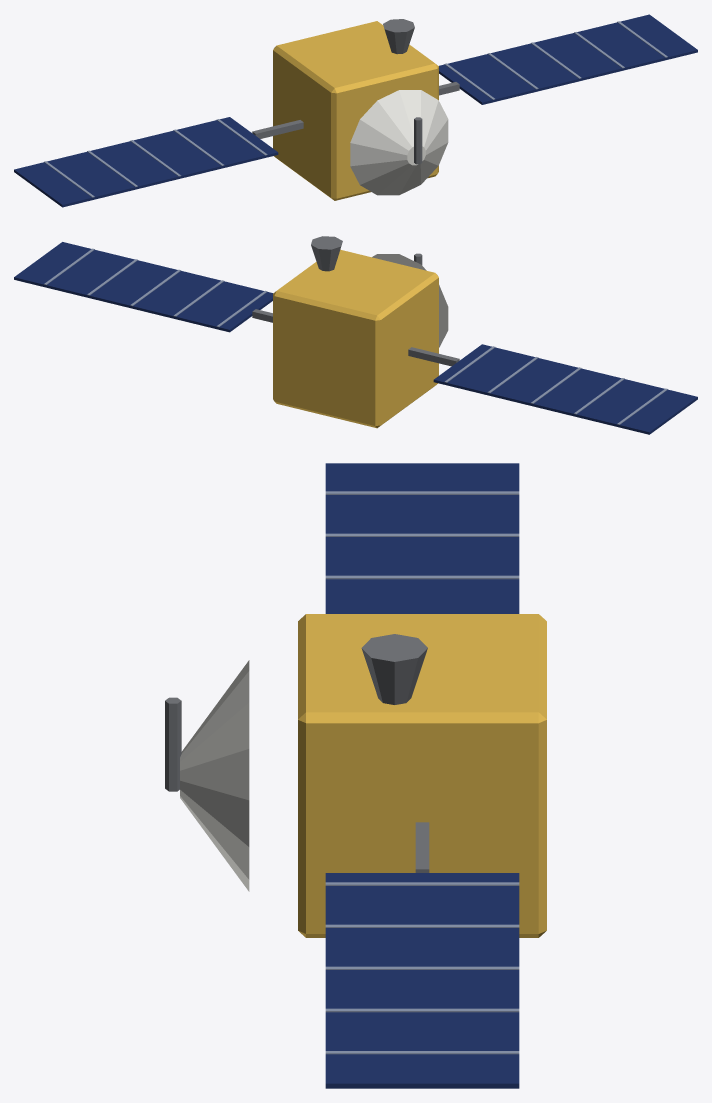
The model's file is space.satellite.glb.
The picture shows the model from 3 angles, top to bottom: view 1: azimuth 30°, elevation 25°; view 2: azimuth 150°, elevation 25°; view 3: azimuth 270°, elevation 25°; orthographic projection. The views are drawn at different scales.
Parts seen in each view (by area): view 1: body, wing-1, wing1, dish, horn, boom-1, feed; view 2: body, wing-1, wing1, horn, dish, boom-1; view 3: body, wing1, wing-1, dish, horn, feed, wing-line-12, wing-line13.
Boxes of the visible parts, bbox=[...] form: body: bbox=[273, 21, 438, 200]; wing-1: bbox=[14, 117, 278, 207]; wing1: bbox=[439, 14, 697, 104]; dish: bbox=[350, 90, 448, 195]; horn: bbox=[383, 19, 414, 54]; boom-1: bbox=[252, 120, 303, 138]; feed: bbox=[414, 117, 422, 164]; body: bbox=[273, 249, 438, 428]; wing-1: bbox=[433, 344, 697, 434]; wing1: bbox=[14, 242, 272, 332]; horn: bbox=[311, 236, 342, 271]; dish: bbox=[372, 254, 448, 347]; boom-1: bbox=[408, 347, 459, 366]; body: bbox=[298, 614, 546, 937]; wing1: bbox=[325, 873, 519, 1088]; wing-1: bbox=[325, 463, 519, 613]; dish: bbox=[180, 660, 249, 891]; horn: bbox=[361, 634, 427, 704]; feed: bbox=[165, 697, 181, 791]; wing-line-12: bbox=[325, 575, 519, 579]; wing-line13: bbox=[325, 1008, 519, 1012].
Size of the model in its own units: 5.3 by 1.2 by 1.38.
